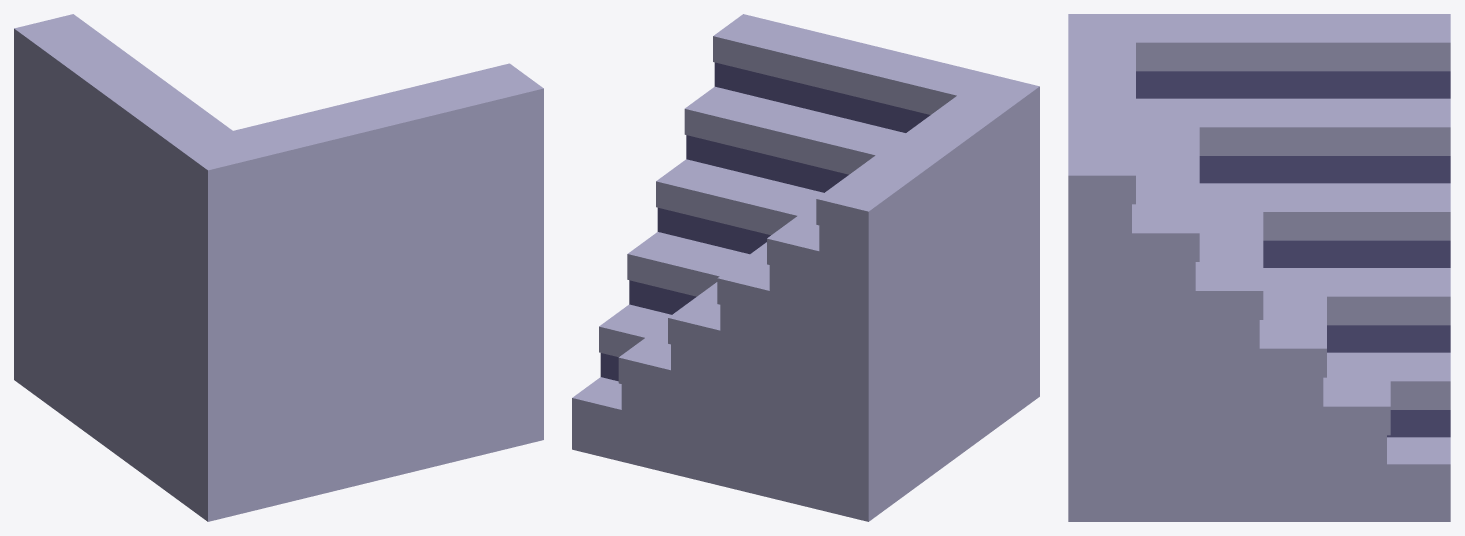
Rendered from stairscorner.glb.
The picture shows the model from 3 angles, left to right: view 1: azimuth 30°, elevation 25°; view 2: azimuth 150°, elevation 25°; view 3: azimuth 270°, elevation 25°; orthographic projection. The views are drawn at different scales.
Parts seen in each view (by area): view 1: stairs_corner_inner; view 2: stairs_corner_inner; view 3: stairs_corner_inner.
Part boxes in pixels (bbox=[...]): stairs_corner_inner: bbox=[14, 14, 543, 521]; stairs_corner_inner: bbox=[572, 14, 1039, 521]; stairs_corner_inner: bbox=[1068, 14, 1450, 521].
Bounding box in the file's own units: 1 × 1 × 1.
